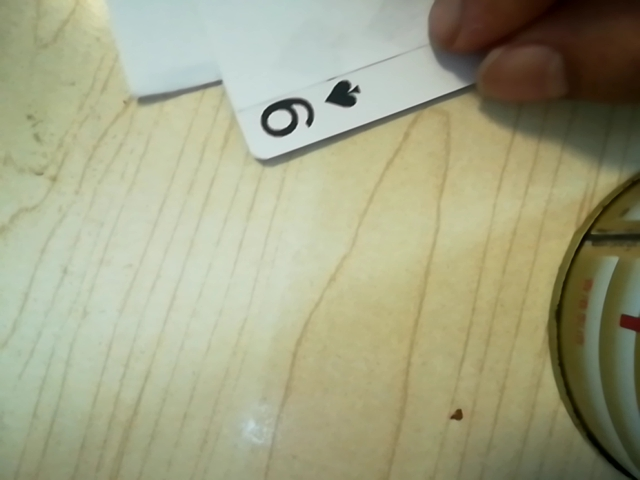ht 9: (246, 70, 380, 151)
